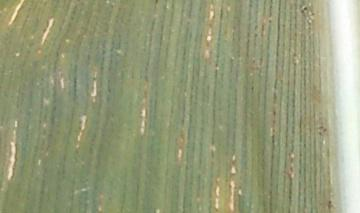tarspot: (301, 4, 308, 12), (317, 129, 323, 136), (326, 198, 332, 205), (322, 127, 328, 133)
